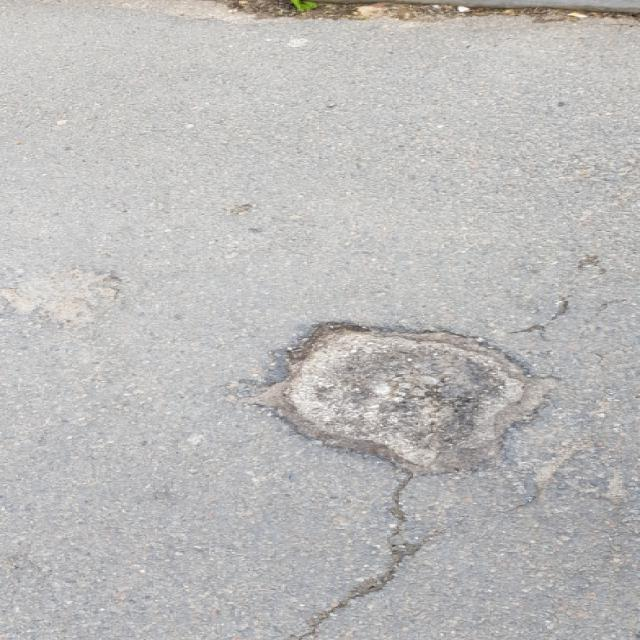Pothole: (260, 317, 574, 479)
